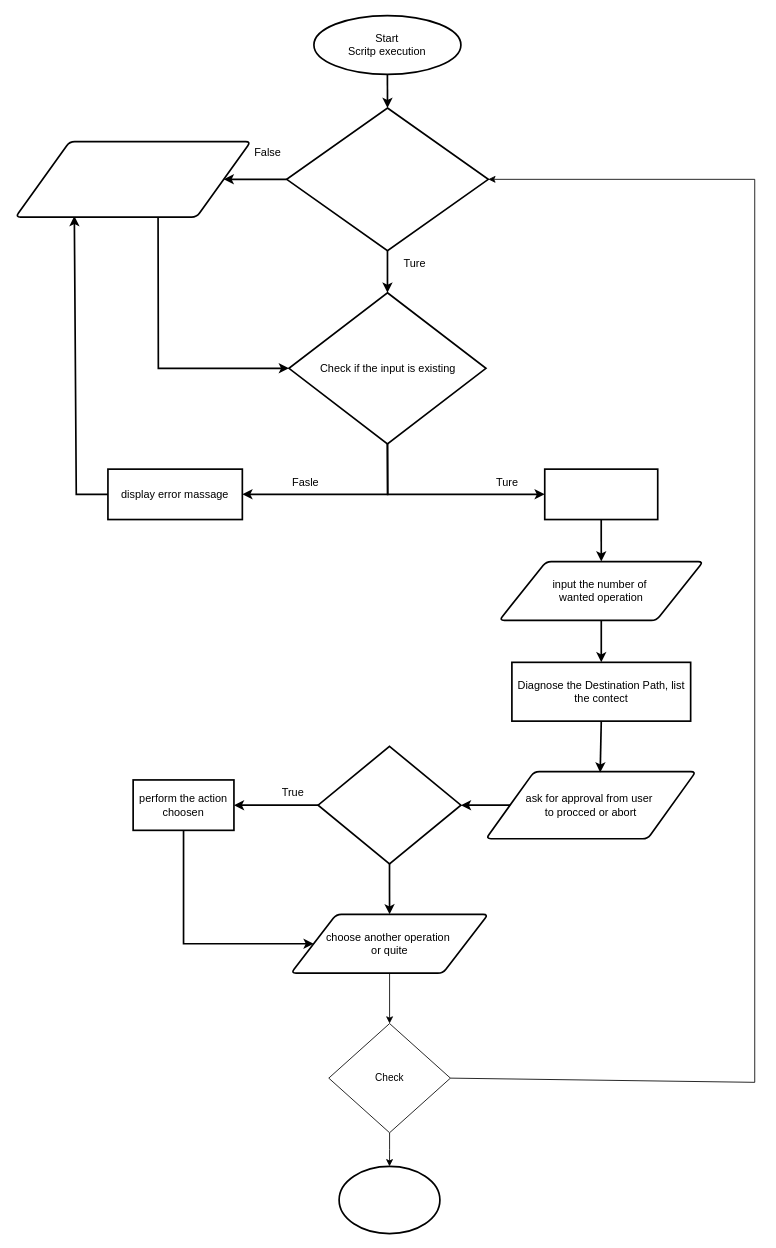
Some shapes in this 776 by 1248 pixel diagram are drawn without their labels. Here are the shapes that lost their labels. From the top down, the centre of each, then its label:
At point 132,179: "input the target destination /file".
At point 387,179: "Does user input the Target destination".
At point 600,494: "List Script Options".
At point 389,804: "check the input".
At point 389,1199: "quit".
